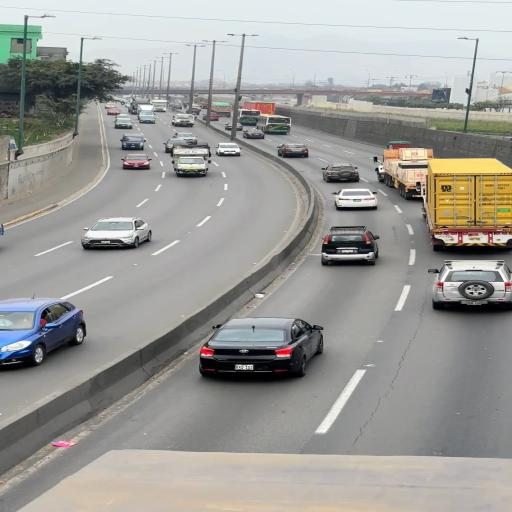auto: (200, 316, 323, 376), (1, 296, 88, 369), (431, 259, 512, 305), (79, 216, 150, 250), (320, 226, 379, 264), (332, 188, 378, 210), (320, 163, 360, 183), (120, 153, 152, 170), (276, 142, 308, 156), (214, 142, 242, 156), (120, 134, 146, 149), (242, 128, 266, 139)
bus: (418, 162, 510, 248), (380, 148, 434, 199), (396, 147, 433, 161), (244, 101, 258, 113)
